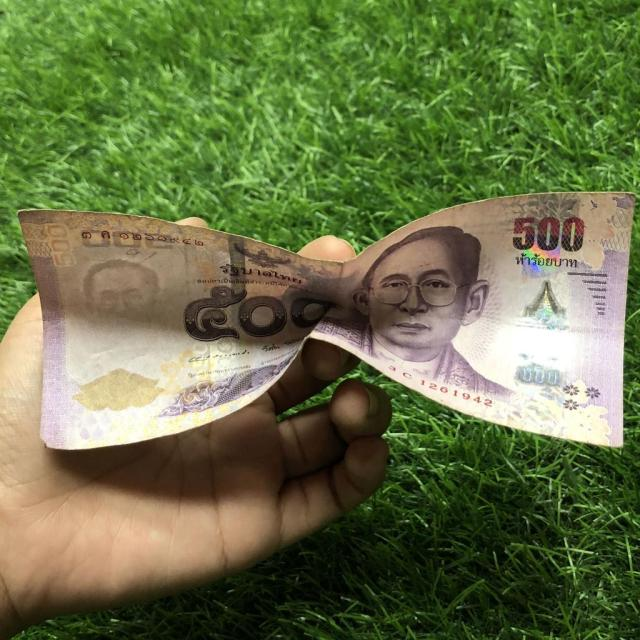THAI500: (19, 193, 634, 450)
